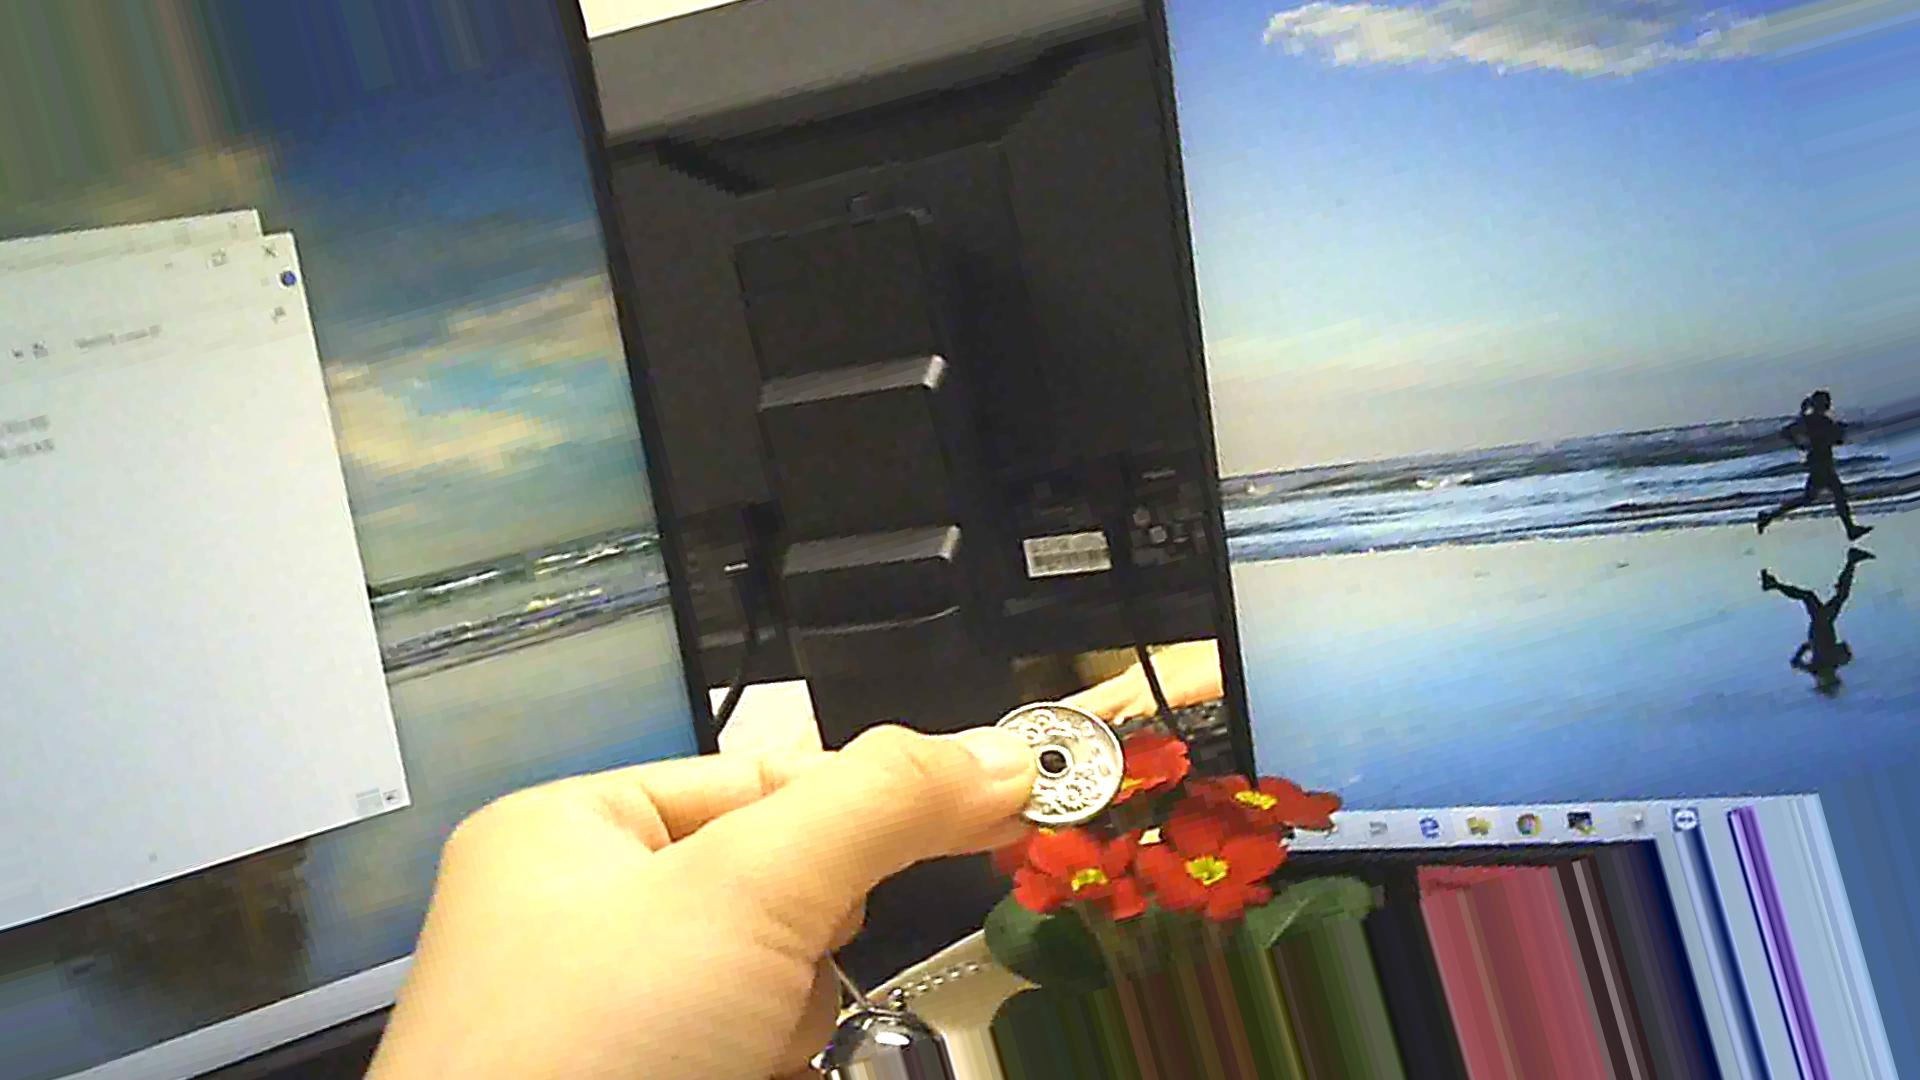50 Yen: (973, 688, 1138, 828)
